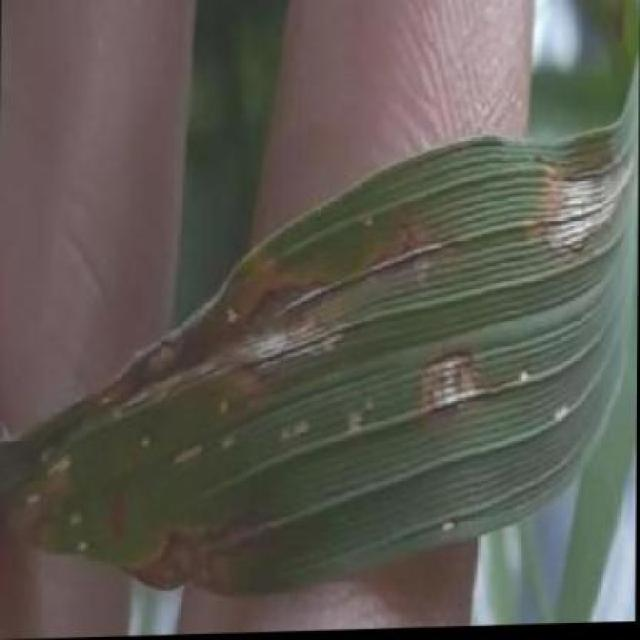Bacterial_Leaf_Blight: (227, 246, 371, 420), (500, 124, 638, 261), (136, 525, 270, 627), (404, 333, 504, 436), (98, 485, 139, 544)
